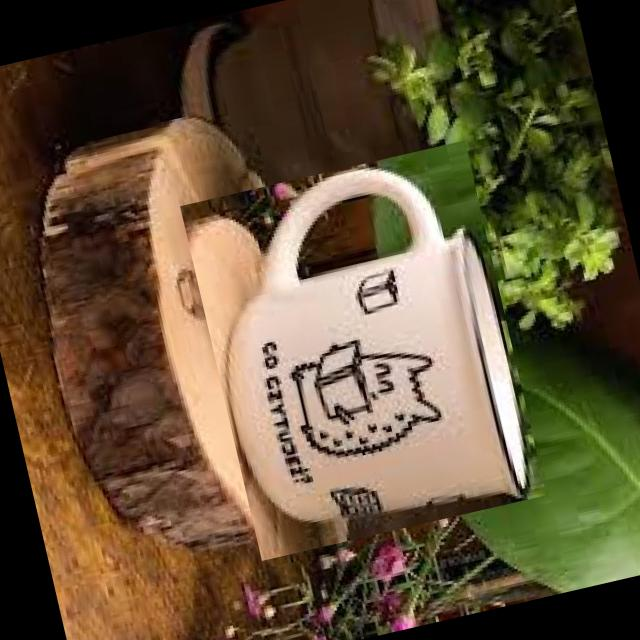Coffee Mug: (185, 145, 538, 554)
